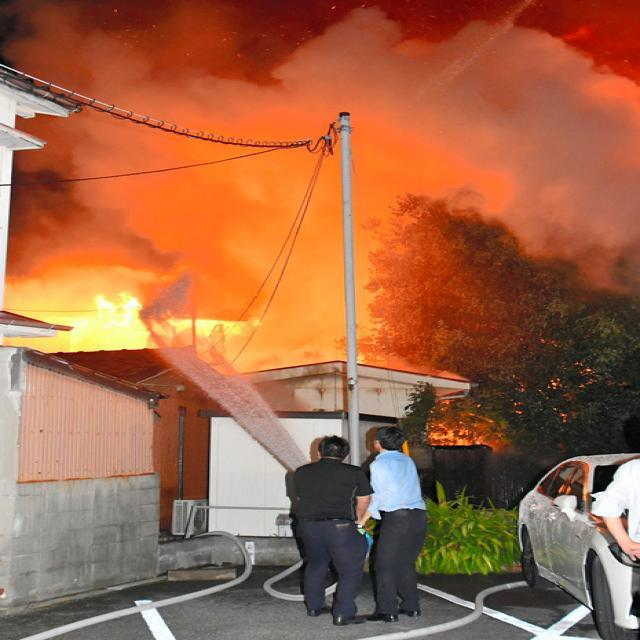Fire: (2, 161, 588, 351), (346, 359, 628, 474)
Smoke: (63, 0, 640, 150)
